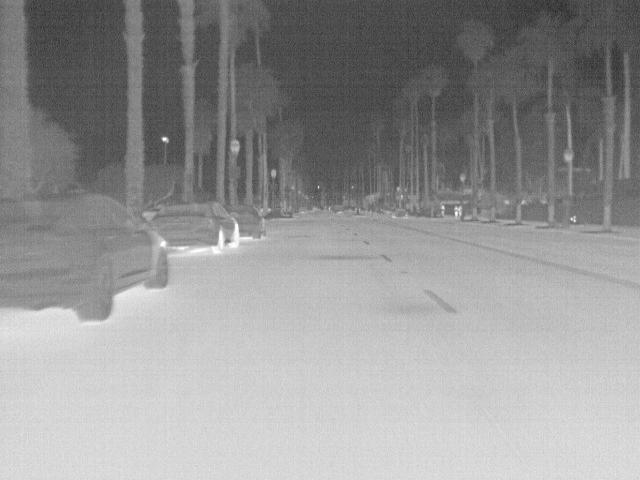car: (1, 193, 170, 323), (148, 203, 242, 255), (225, 203, 268, 241)
person: (439, 202, 446, 216), (453, 204, 458, 218), (457, 204, 462, 218)
